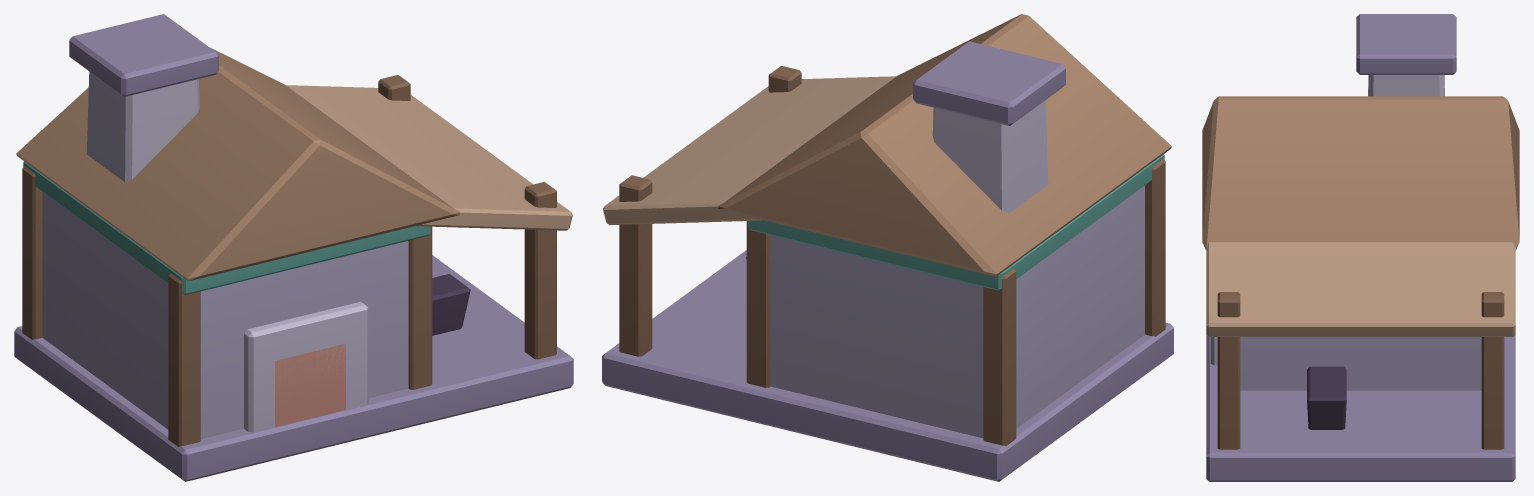
File: smithy.glb
3 views of the same model, side by side, from view 1: azimuth 30°, elevation 25°; view 2: azimuth 150°, elevation 25°; view 3: azimuth 270°, elevation 25° (orthographic). The views are drawn at different scales.
Visible parts, largest first — view 1: smithy; view 2: smithy; view 3: smithy.
Boxes of the visible parts, left/top/right/bottom form: smithy: left=14, top=14, right=573, bottom=481; smithy: left=602, top=14, right=1173, bottom=481; smithy: left=1202, top=14, right=1519, bottom=481.
Size of the model in its own units: 1.8 by 1.5 by 1.4.
